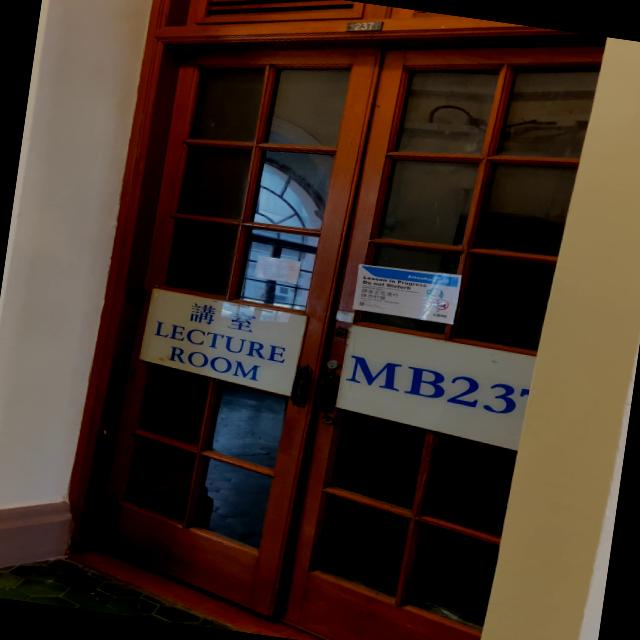room237: (344, 17, 384, 38)
